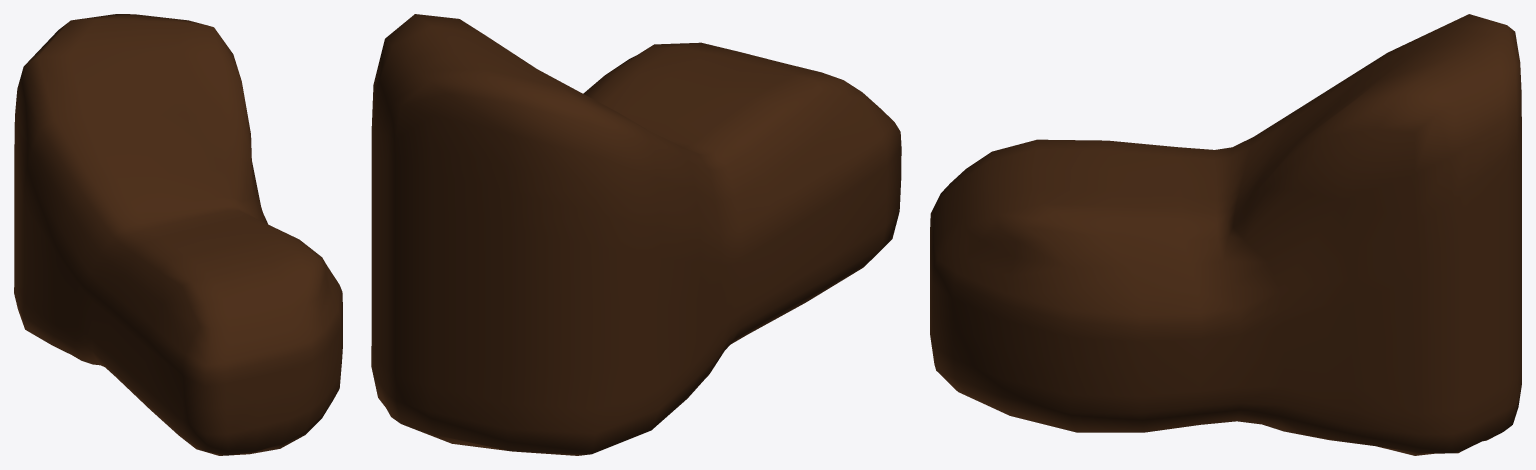
Rendered from rock_1.fbx.
3 views of the same model, side by side, from view 1: azimuth 30°, elevation 25°; view 2: azimuth 150°, elevation 25°; view 3: azimuth 270°, elevation 25° (orthographic). The views are drawn at different scales.
Parts seen in each view (by area): view 1: Cube.003; view 2: Cube.003; view 3: Cube.003.
Boxes of the visible parts, x1,y1,x2,y2 form: Cube.003: [14, 14, 342, 455]; Cube.003: [371, 14, 901, 455]; Cube.003: [930, 14, 1521, 455].
Size of the model in its own units: 29.51 by 38.63 by 55.55.
